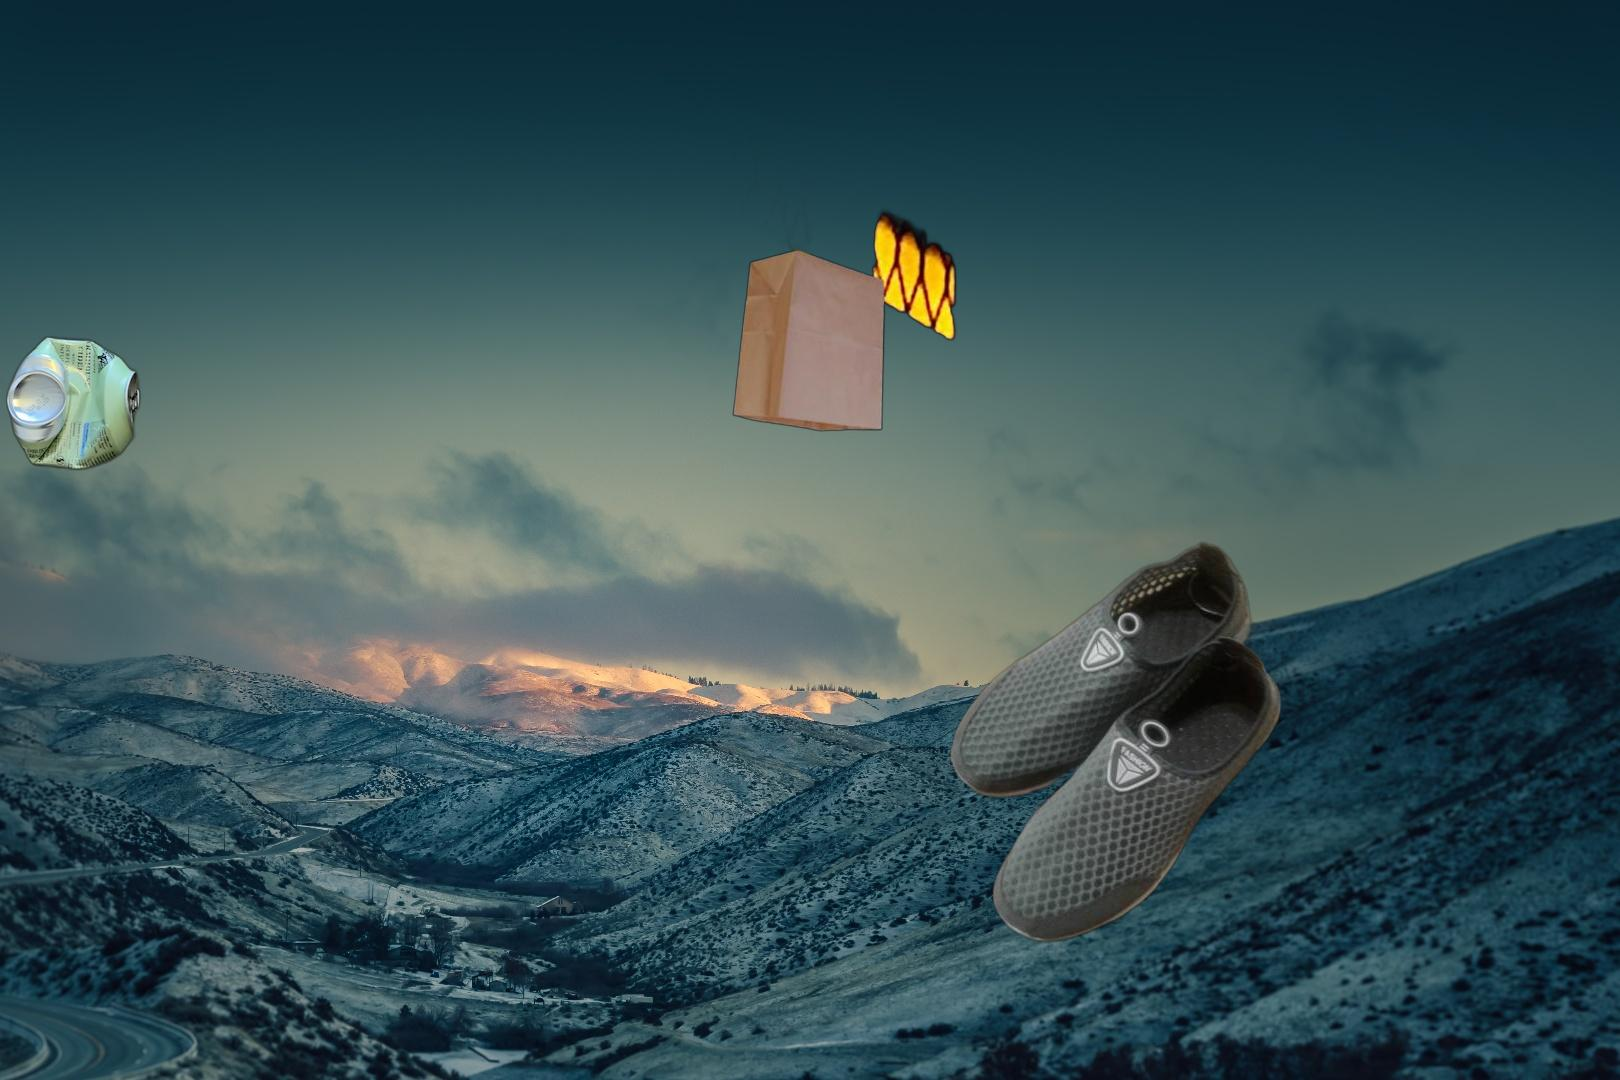metal-cans: (2, 330, 145, 476)
paper-bag: (723, 137, 959, 434)
shoes: (946, 536, 1284, 947)
